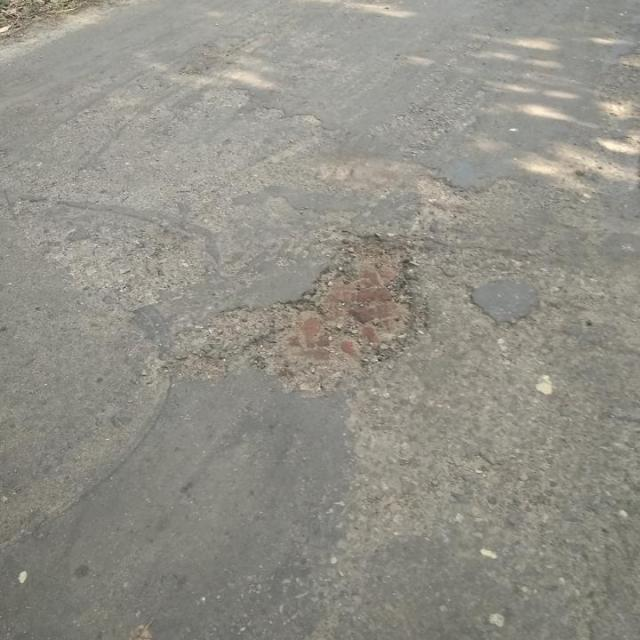Pothole: (176, 239, 412, 393)
